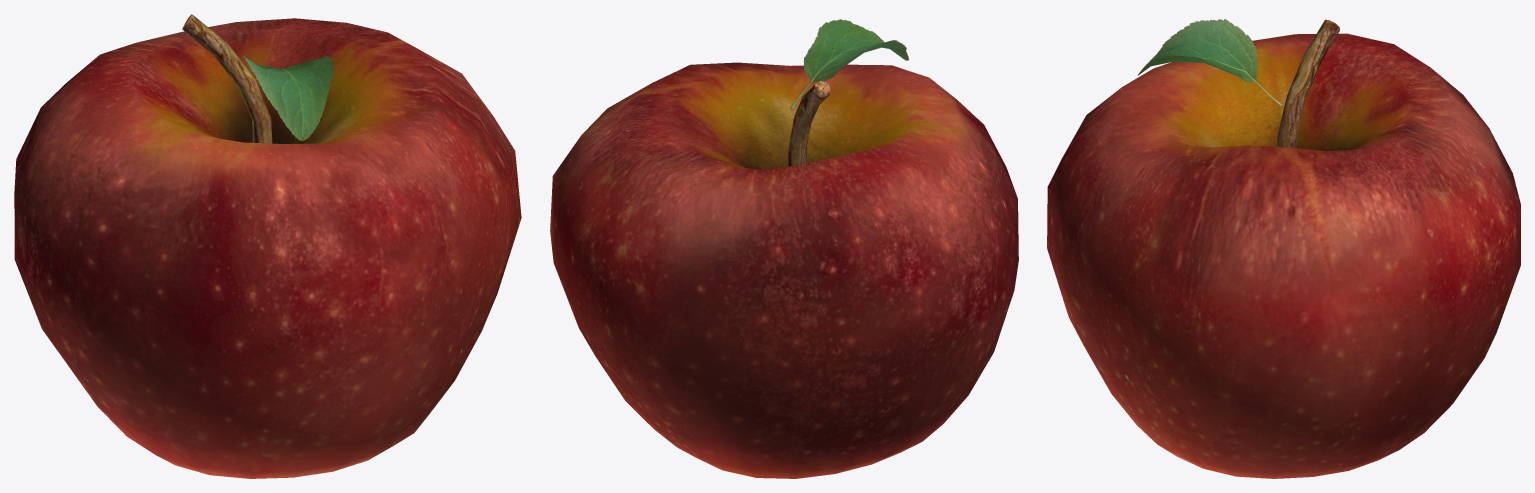
File: apple.glb
3 views of the same model, side by side, from view 1: azimuth 30°, elevation 25°; view 2: azimuth 150°, elevation 25°; view 3: azimuth 270°, elevation 25° (orthographic). The views are drawn at different scales.
Parts seen in each view (by area): view 1: Apple, Leaf; view 2: Apple, Leaf; view 3: Apple, Leaf.
Boxes of the visible parts, x1,y1,x2,y2 form: Apple: [14, 14, 521, 478]; Leaf: [242, 55, 334, 140]; Apple: [550, 62, 1018, 478]; Leaf: [790, 19, 908, 109]; Apple: [1047, 19, 1520, 478]; Leaf: [1138, 19, 1282, 106].
Size of the model in its own units: 0.0211 by 0.0182 by 0.02.
Materials: 2 (2 with a texture image).
